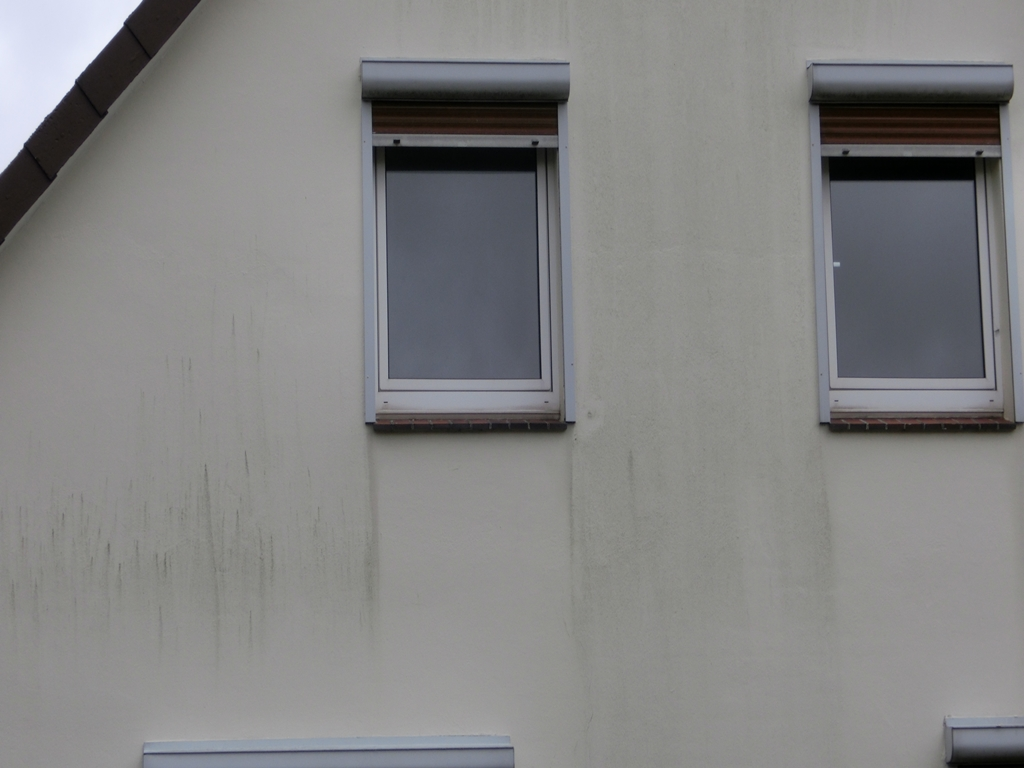windows: (372, 94, 570, 427), (820, 111, 1012, 423)
